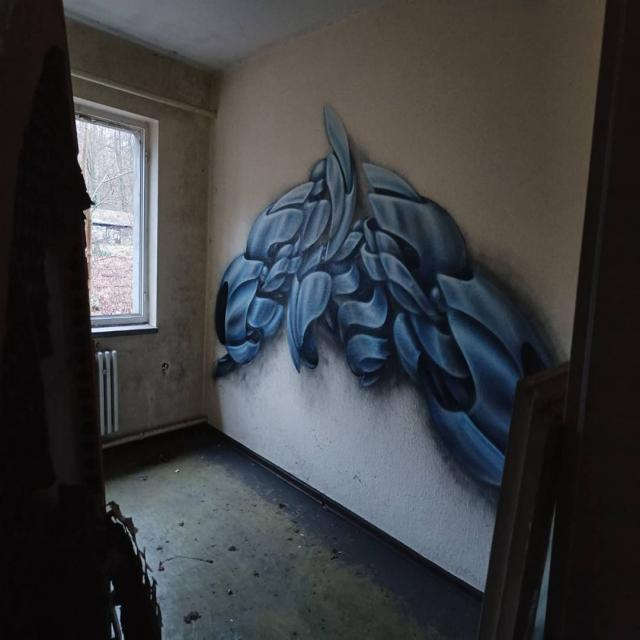nonspitting: (212, 108, 558, 502)
